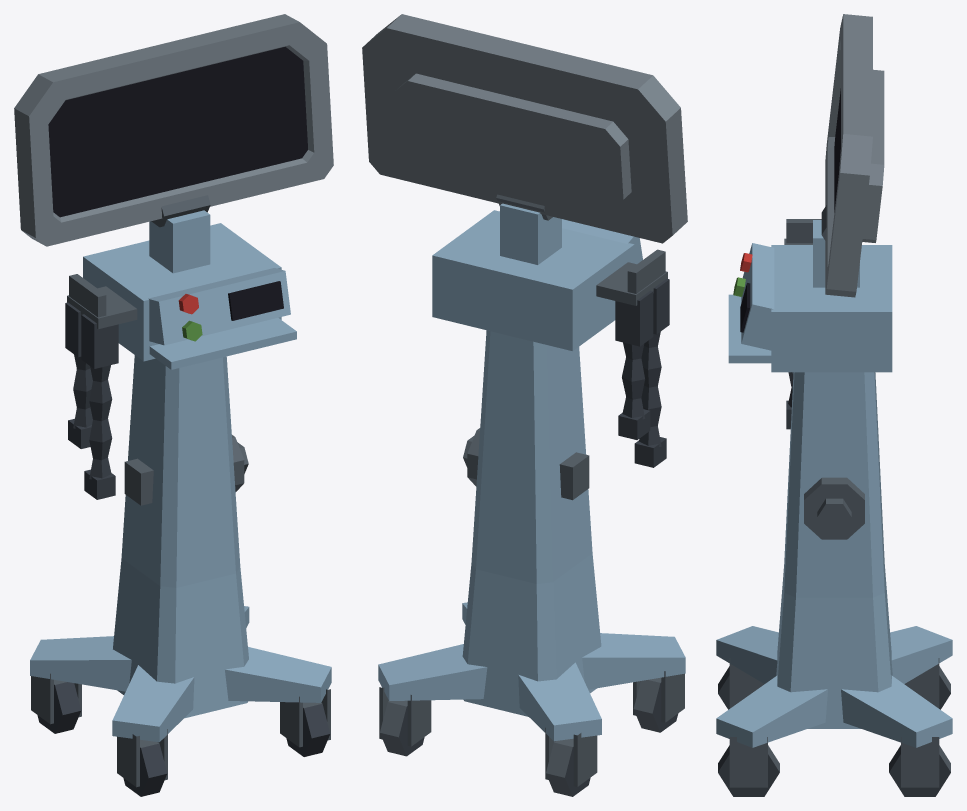
File: monitor.glb
The picture shows the model from 3 angles, left to right: view 1: azimuth 30°, elevation 25°; view 2: azimuth 150°, elevation 25°; view 3: azimuth 270°, elevation 25°; orthographic projection. The views are drawn at different scales.
Parts seen in each view (by area): view 1: vital-signs-monitor, screen-head, lead-1, wheel-fl, wheel-fr, wheel-rl; view 2: vital-signs-monitor, screen-head, lead-1, wheel-rl, wheel-rr, wheel-fl; view 3: vital-signs-monitor, screen-head, wheel-rr, wheel-fr.
Boxes of the visible parts, x1=… form: vital-signs-monitor: x1=30, y1=195, x2=331, y2=787; screen-head: x1=14, y1=14, x2=333, y2=246; lead-1: x1=81, y1=314, x2=118, y2=499; wheel-fl: x1=123, y1=739, x2=167, y2=796; wheel-fr: x1=286, y1=702, x2=330, y2=756; wheel-rl: x1=37, y1=680, x2=81, y2=733; vital-signs-monitor: x1=378, y1=194, x2=685, y2=786; screen-head: x1=362, y1=14, x2=687, y2=243; lead-1: x1=634, y1=278, x2=669, y2=467; wheel-rl: x1=546, y1=738, x2=590, y2=796; wheel-rr: x1=380, y1=700, x2=424, y2=756; wheel-fl: x1=633, y1=677, x2=678, y2=732; vital-signs-monitor: x1=716, y1=205, x2=952, y2=787; screen-head: x1=825, y1=14, x2=884, y2=297; wheel-rr: x1=889, y1=745, x2=950, y2=796; wheel-fr: x1=718, y1=745, x2=779, y2=796.
Size of the model in its own units: 0.64 by 1.4 by 0.4419.
